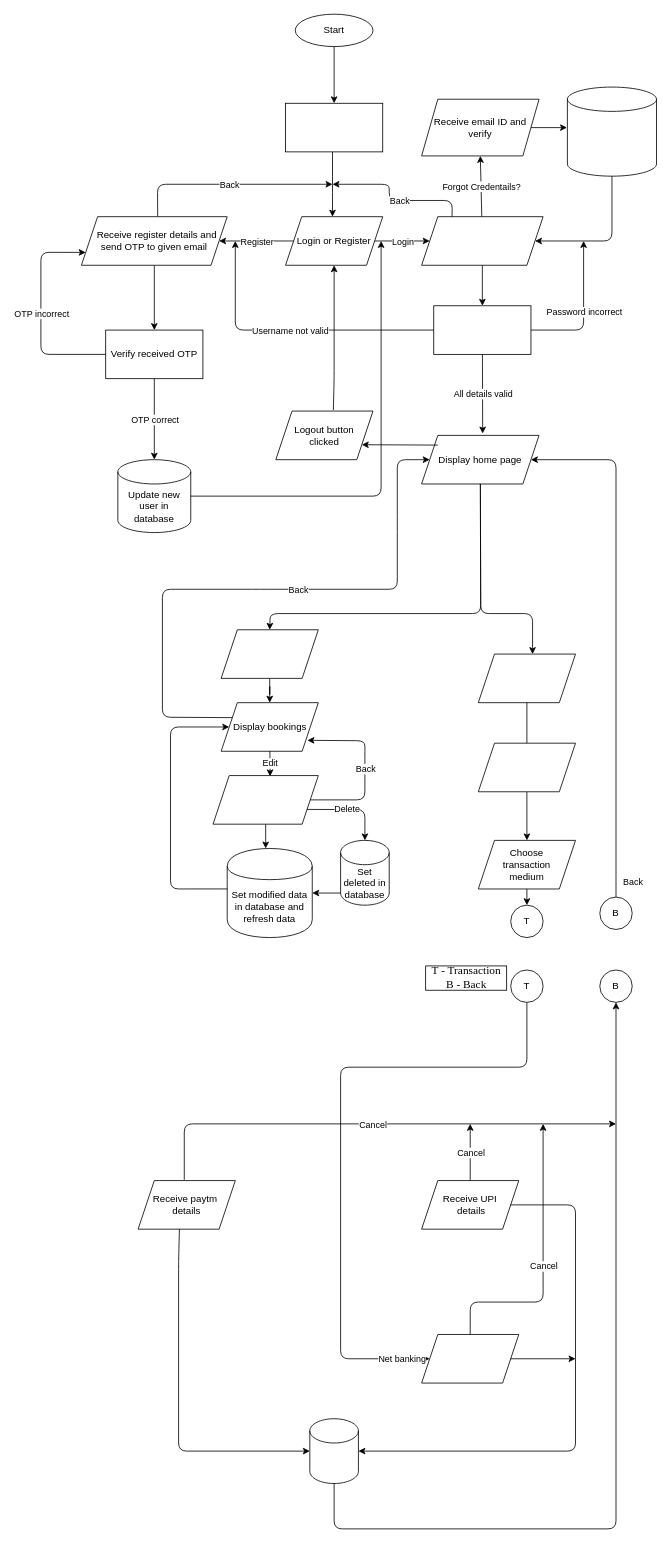
Some shapes in this 671 by 1550 pixel diagram are drawn without their labels. Here are the shapes that lost their labels. From the top down, the box of each, then its label:
(285, 102, 383, 152): Establish connection with database and load data
(567, 86, 657, 176): Send username and password with associated email from database
(421, 216, 543, 265): Receive login details
(433, 305, 531, 354): Verify email, phone number and unique username
(220, 629, 318, 678): Booking button clicked
(477, 653, 576, 703): Any services button clicked
(477, 742, 576, 792): Any choice of need button clicked
(212, 775, 318, 824): Receive modified item data
(421, 1334, 519, 1383): Receive net banking details
(309, 1418, 358, 1484): Update database
